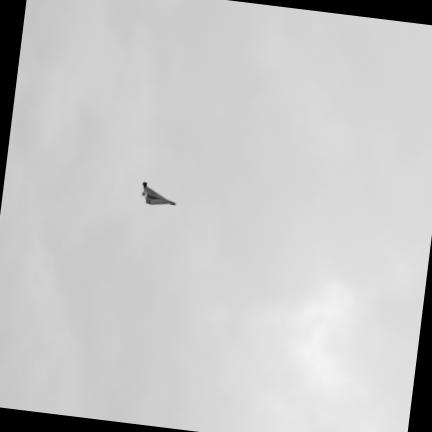Shahed: (141, 182, 174, 205)
